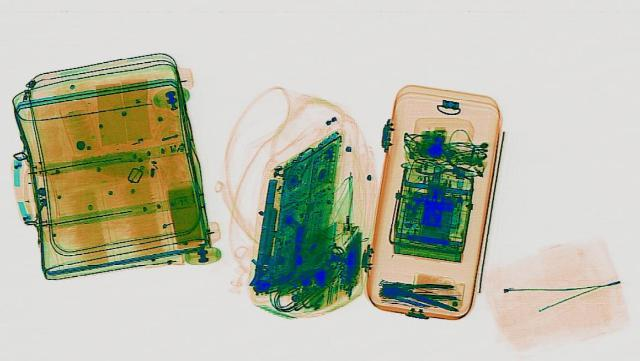Pliers: (409, 147, 488, 186), (378, 279, 459, 300)
